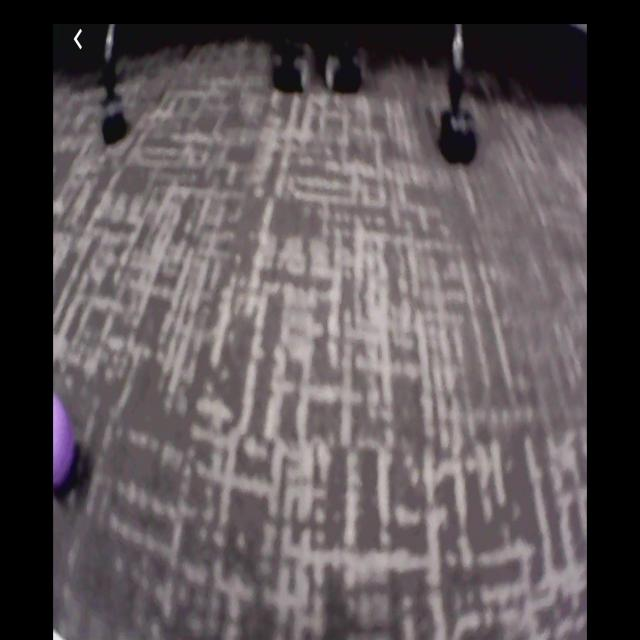ball: (53, 392, 78, 493)
